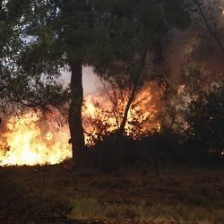fire: (1, 66, 175, 170)
